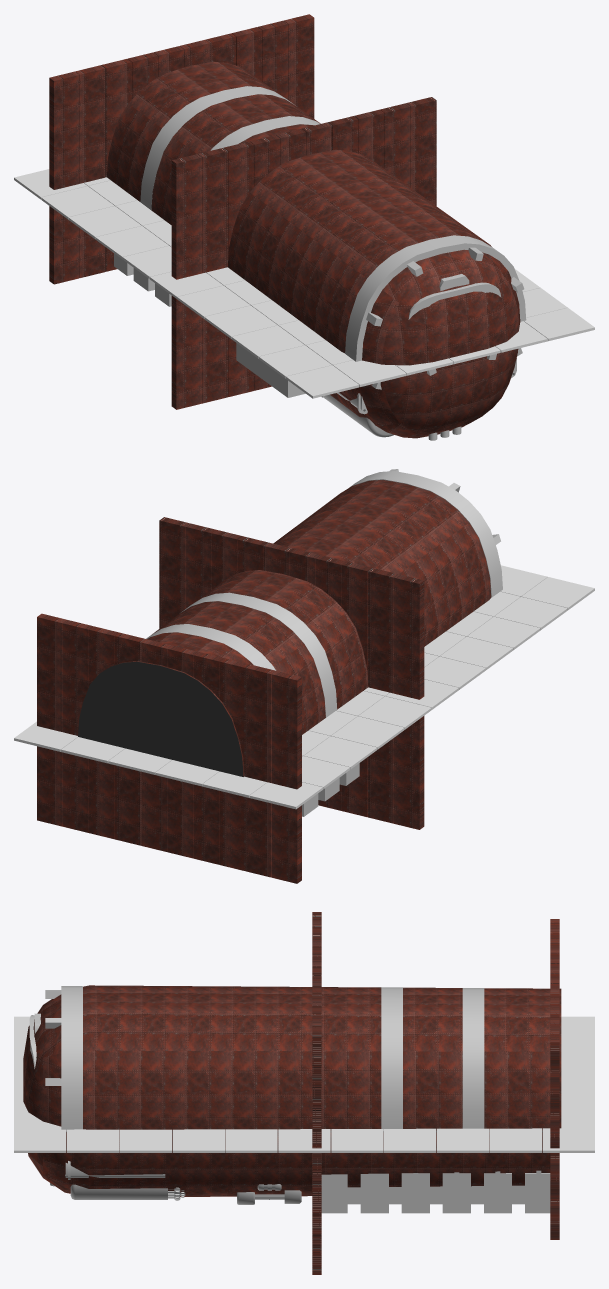
Rendered from Submarine.fbx.
3 renders of one model, top to bottom at view 1: azimuth 30°, elevation 25°; view 2: azimuth 150°, elevation 25°; view 3: azimuth 270°, elevation 25°, orthographic. The views are drawn at different scales.
Parts seen in each view (by area): view 1: Submarine, Wall, Floor, wall2, Submarine3, Beams, Control Panel, control panel2, Generators, engine; view 2: Submarine, wall2, Wall, Floor, Beams, engine; view 3: Submarine, Floor, Submarine3, Beams, engine, Wall, wall2, Generators, power distributor 2.
Boxes of the visible parts, <box> form: Submarine: <box>107,61,520,365</box>; Wall: <box>171,97,436,409</box>; Floor: <box>14,169,594,398</box>; wall2: <box>49,14,314,284</box>; Submarine3: <box>330,349,518,438</box>; Beams: <box>140,86,526,361</box>; Control Panel: <box>408,274,501,319</box>; control panel2: <box>236,343,305,397</box>; Generators: <box>323,358,516,437</box>; engine: <box>114,253,171,306</box>; Submarine: <box>78,480,491,776</box>; wall2: <box>37,613,301,883</box>; Wall: <box>159,517,424,829</box>; Floor: <box>14,565,594,809</box>; Beams: <box>146,471,502,717</box>; engine: <box>302,763,359,816</box>; Submarine: <box>23,985,561,1131</box>; Floor: <box>14,1016,594,1152</box>; Submarine3: <box>28,1132,550,1196</box>; Beams: <box>61,986,484,1131</box>; engine: <box>321,1170,550,1213</box>; Wall: <box>312,912,321,1274</box>; wall2: <box>550,919,559,1239</box>; Generators: <box>65,1161,167,1199</box>; power distributor 2: <box>237,1184,301,1204</box>.
Bounding box in the file's own units: 8.52 × 15.62 × 7.1.
